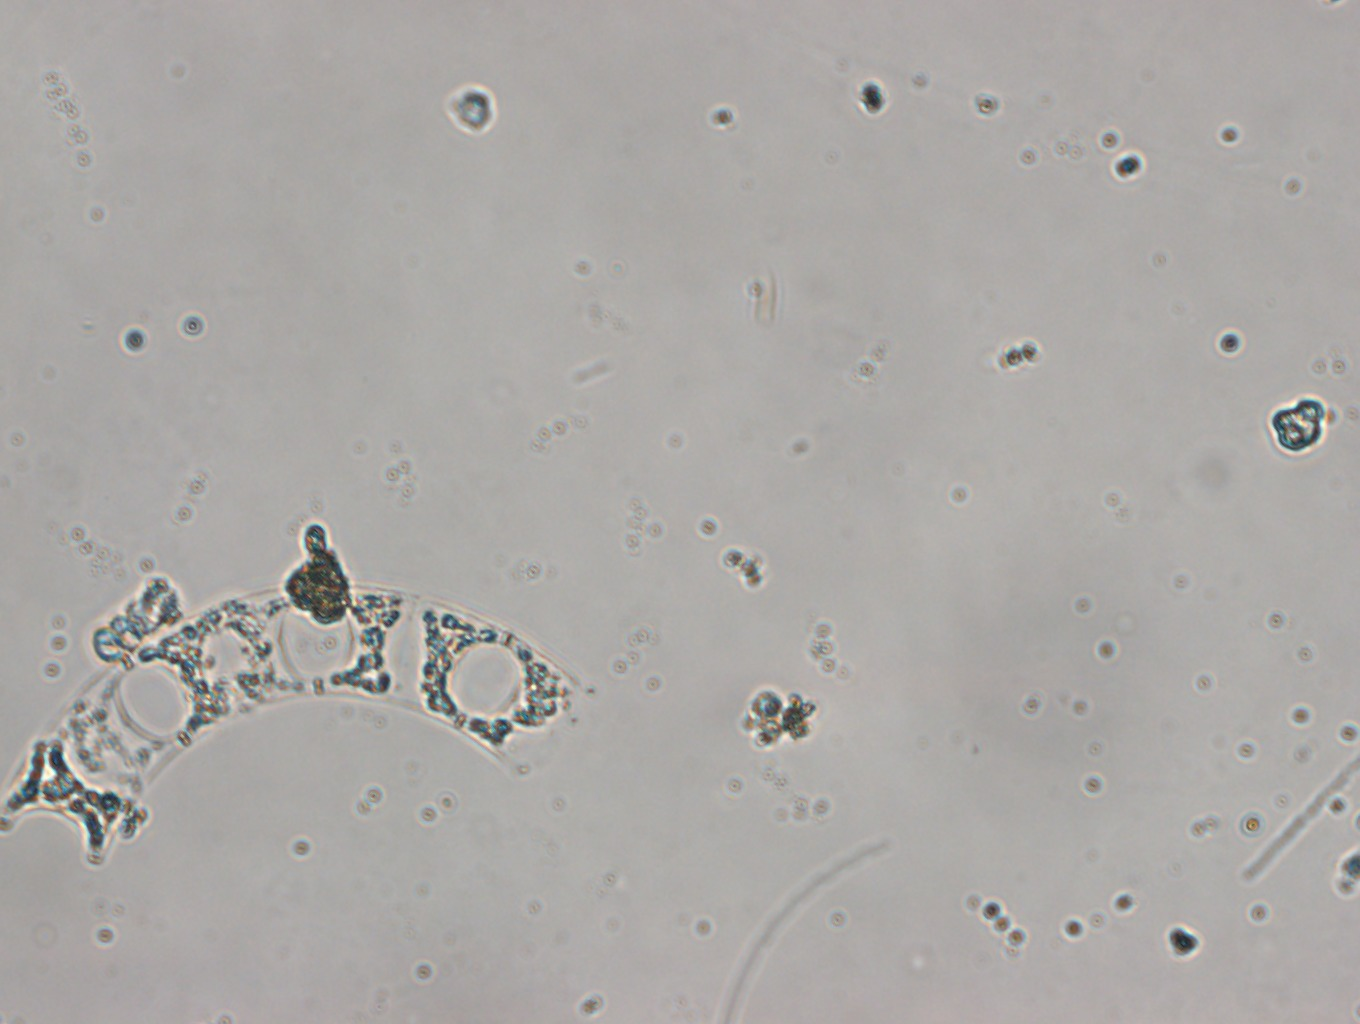eucampia: (1, 583, 582, 859)
